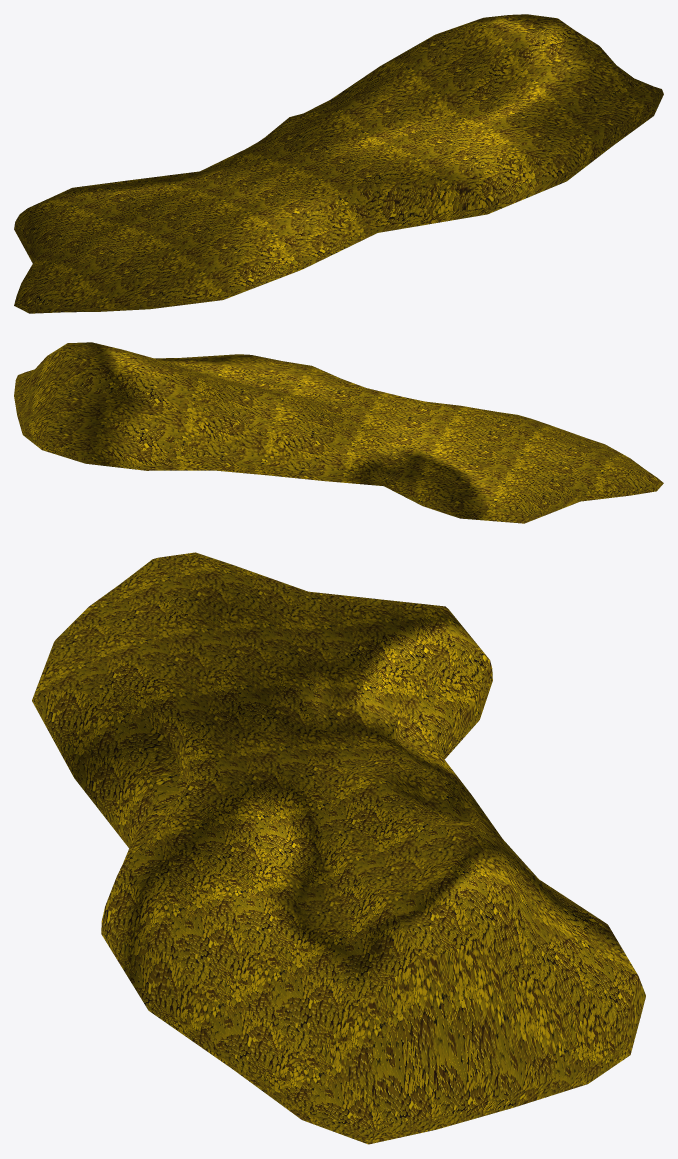
File: CH09_SMAUG_PLAYSURFACE_LAIR82.fbx
3 views of the same model, one above another, from view 1: azimuth 30°, elevation 25°; view 2: azimuth 150°, elevation 25°; view 3: azimuth 270°, elevation 25° (orthographic). The views are drawn at different scales.
Visible parts, largest first — view 1: CH09_SMAUG_PLAYSURFACE_LAIR82; view 2: CH09_SMAUG_PLAYSURFACE_LAIR82; view 3: CH09_SMAUG_PLAYSURFACE_LAIR82.
Part boxes in pixels (x1,y1,x2,y2): CH09_SMAUG_PLAYSURFACE_LAIR82: (14, 14, 663, 313); CH09_SMAUG_PLAYSURFACE_LAIR82: (14, 342, 663, 523); CH09_SMAUG_PLAYSURFACE_LAIR82: (32, 552, 645, 1144).
Bounding box in the file's own units: 393265 × 47765 × 175815.
Materials: 1 (1 with a texture image).
